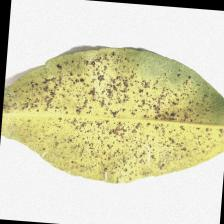canker: (24, 58, 201, 163)
